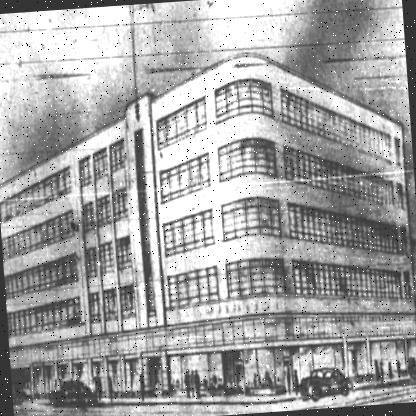Car: (301, 367, 357, 408), (50, 378, 100, 406), (407, 358, 415, 382)
